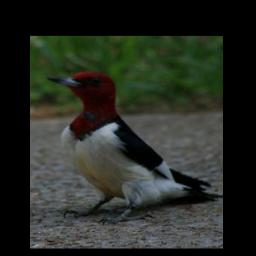Woodpecker: (41, 70, 223, 223)
